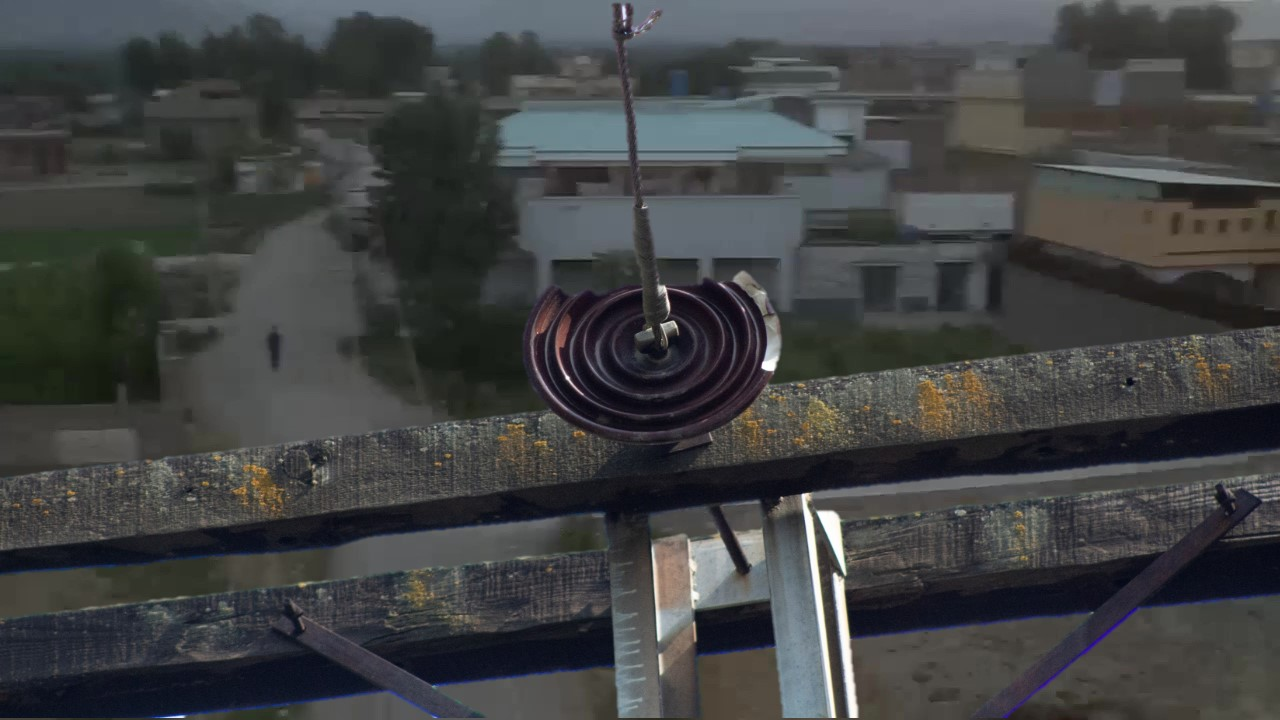defect_disc: (518, 258, 796, 444)
